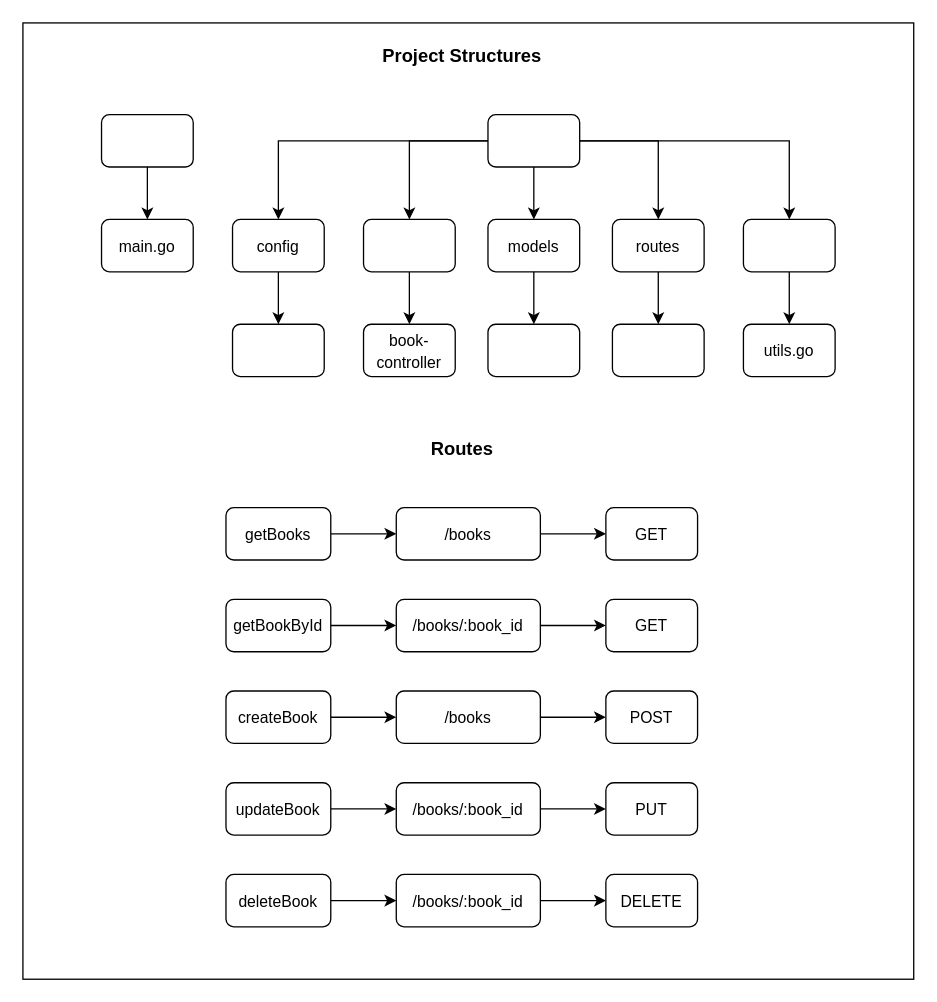
The diagram is 937 pixels wide and 1002 high, and some of its shapes have lost their labels. Here are the shapes that lost their labels. From the top down, the centre of each, then its label:
the point at 146,140: CMD
the point at 533,140: PKG
the point at 408,245: controllers
the point at 788,245: utils
the point at 277,350: app.go
the point at 533,350: book.go
the point at 657,350: book-routes
